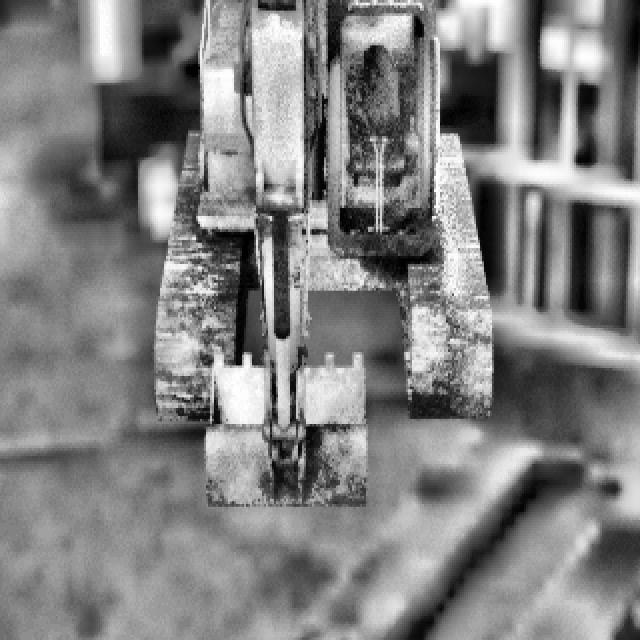excavator: (152, 0, 490, 504)
